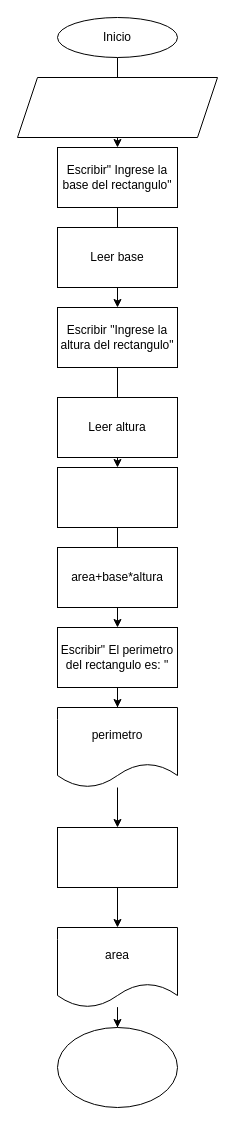
This 235x1125 diagram has some shape labels left out. The box of each missing label's shape, as (x1, y1, x2, y2) in pixels:
base,altura: (16, 76, 218, 138)
Escribir" El area del rectangulo es: ": (56, 826, 178, 888)
Fin: (56, 1026, 178, 1108)
perimetro=2altura + 2Base: (56, 466, 178, 528)
